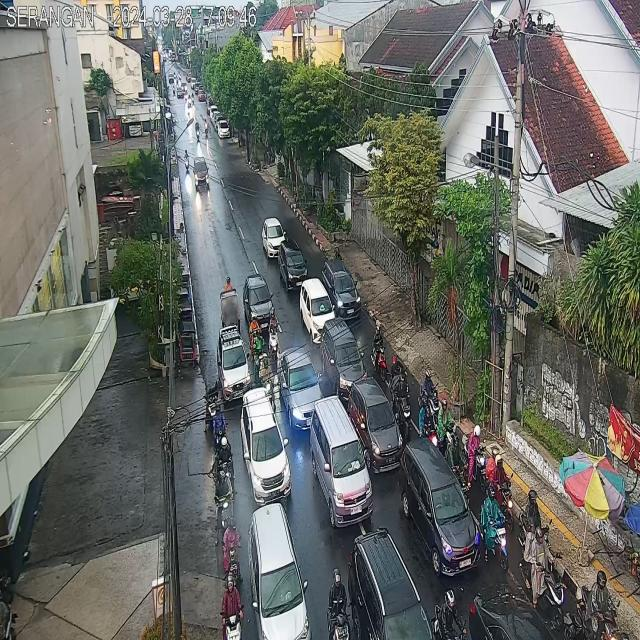car: (398, 437, 482, 578), (349, 526, 434, 640), (248, 502, 313, 640), (308, 400, 375, 528), (240, 386, 291, 506), (341, 380, 405, 470), (469, 578, 554, 640), (281, 346, 324, 431), (322, 320, 367, 385), (298, 276, 336, 341), (318, 261, 362, 317), (218, 326, 250, 402), (245, 274, 281, 332), (277, 238, 308, 289), (263, 217, 285, 258), (193, 157, 210, 191)
motorcycle: (520, 516, 564, 632), (577, 570, 620, 640), (485, 445, 515, 534), (479, 486, 508, 572), (518, 488, 553, 556), (431, 589, 467, 640), (326, 566, 349, 640), (213, 470, 237, 540), (462, 424, 486, 494), (445, 433, 469, 503), (221, 517, 243, 593), (222, 572, 244, 640), (390, 375, 412, 441), (432, 398, 457, 452), (418, 394, 439, 452), (417, 369, 440, 418), (259, 352, 276, 414), (217, 436, 235, 494), (371, 324, 388, 382), (204, 379, 221, 433), (252, 331, 268, 382), (213, 405, 228, 453), (268, 310, 280, 360), (248, 314, 263, 354), (183, 149, 190, 171)
